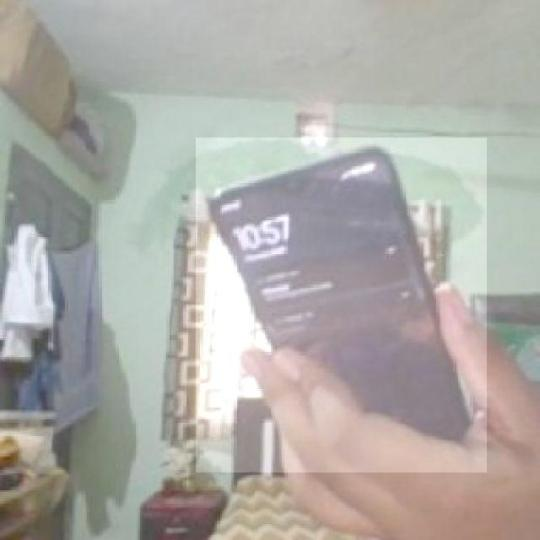phone: (205, 148, 480, 458)
